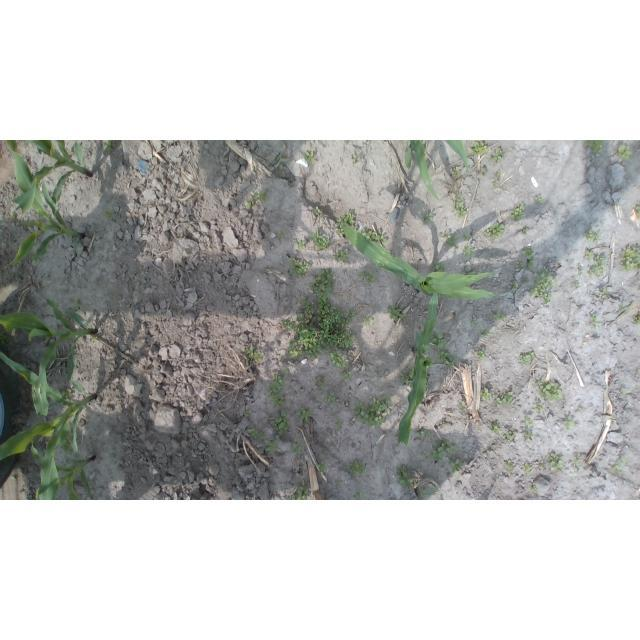Maize: (1, 349, 96, 500), (343, 225, 510, 300), (0, 297, 94, 419), (0, 141, 84, 268), (397, 291, 438, 446), (13, 141, 92, 216), (29, 437, 96, 500), (404, 140, 469, 202), (408, 484, 440, 501)
Weeds: (288, 296, 357, 360), (353, 396, 393, 429), (529, 268, 557, 304), (308, 269, 337, 294), (535, 379, 563, 401), (432, 438, 457, 460), (396, 465, 419, 488), (269, 376, 285, 409), (620, 245, 640, 271), (273, 411, 292, 437), (362, 228, 387, 245), (288, 480, 308, 500), (454, 193, 469, 219), (328, 349, 348, 368), (290, 259, 311, 277), (439, 231, 458, 250), (309, 232, 330, 249), (437, 351, 455, 370), (485, 222, 506, 238), (468, 140, 489, 156), (346, 460, 366, 476), (246, 348, 267, 363), (585, 141, 606, 156), (522, 247, 536, 269), (387, 304, 405, 321), (548, 453, 563, 473), (429, 332, 447, 348), (356, 272, 378, 285), (510, 203, 525, 222), (594, 256, 607, 277), (496, 392, 512, 409), (296, 407, 313, 423), (616, 144, 632, 161), (277, 318, 295, 332), (449, 459, 464, 475), (334, 248, 350, 263), (431, 259, 448, 273), (265, 439, 280, 454), (561, 414, 575, 430), (584, 230, 601, 243), (520, 352, 535, 365), (416, 428, 432, 440), (289, 442, 305, 454), (248, 429, 265, 440), (323, 392, 337, 405), (256, 189, 269, 203), (59, 385, 72, 399), (315, 460, 330, 472), (490, 148, 502, 163), (335, 218, 345, 235), (480, 388, 493, 401), (342, 212, 355, 225), (494, 311, 507, 323), (104, 140, 117, 152), (304, 152, 316, 165), (609, 464, 623, 475), (315, 375, 325, 390), (103, 205, 113, 220), (590, 316, 602, 328), (596, 289, 612, 298), (504, 431, 518, 441), (61, 439, 71, 453), (463, 265, 476, 275), (530, 404, 544, 413), (475, 349, 486, 360), (504, 459, 514, 471), (362, 315, 374, 325), (492, 421, 501, 434), (352, 490, 365, 499), (277, 230, 288, 240), (464, 245, 474, 256), (569, 277, 579, 287), (479, 327, 489, 337), (523, 463, 532, 474), (342, 371, 353, 380), (248, 196, 255, 209), (515, 261, 525, 270), (295, 241, 305, 250), (424, 214, 434, 223), (522, 417, 533, 425), (312, 206, 320, 217), (471, 316, 478, 328), (336, 420, 343, 432), (424, 451, 432, 461), (451, 168, 461, 176), (584, 251, 592, 260), (278, 355, 287, 363), (400, 374, 409, 382), (73, 299, 82, 307), (463, 233, 471, 242), (536, 196, 545, 204), (572, 457, 582, 464), (493, 179, 500, 189), (511, 280, 518, 289), (522, 276, 529, 285), (530, 485, 537, 494), (523, 432, 532, 439), (243, 408, 250, 417), (352, 155, 361, 162), (408, 369, 414, 379), (279, 163, 287, 170), (479, 168, 487, 175), (620, 389, 629, 395), (9, 212, 15, 221), (459, 402, 466, 409), (282, 367, 289, 374), (440, 422, 447, 429), (523, 227, 530, 234), (634, 316, 640, 324), (43, 436, 49, 444), (619, 457, 626, 463), (540, 461, 545, 469), (589, 269, 595, 275), (619, 305, 625, 311), (275, 155, 281, 161), (636, 206, 640, 215), (408, 380, 412, 388), (579, 268, 584, 274), (578, 408, 584, 413), (94, 337, 98, 342), (335, 481, 339, 485), (576, 469, 580, 473), (486, 452, 491, 455), (495, 171, 500, 174)
